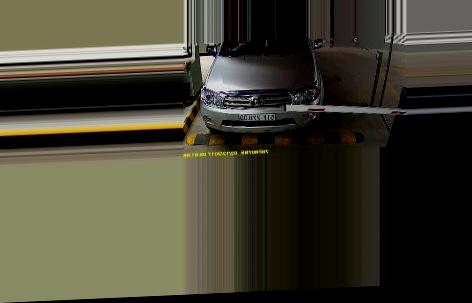License_Plate: (237, 110, 276, 125)
